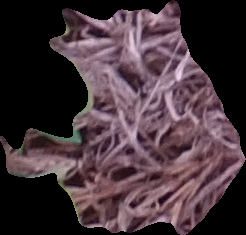soil: (3, 1, 242, 232)
